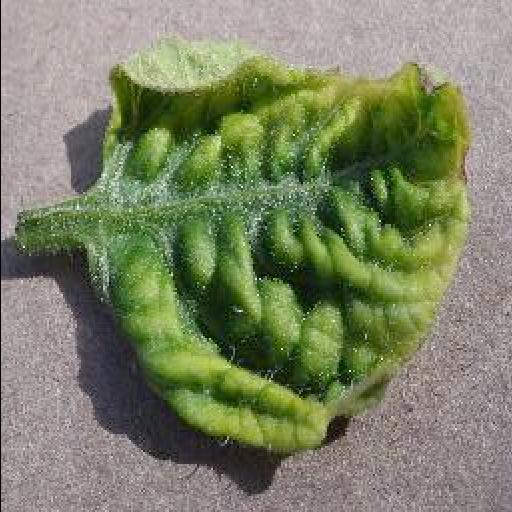disease_tomato: (79, 41, 473, 455)
